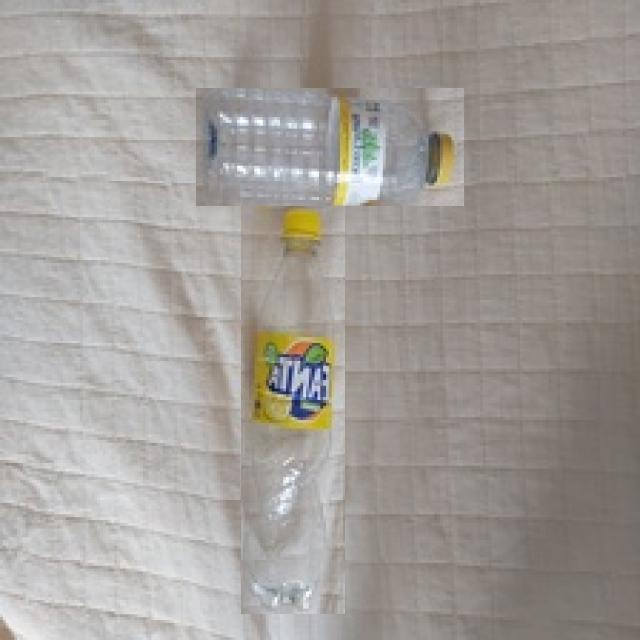good: (241, 207, 345, 615), (196, 88, 464, 206)
